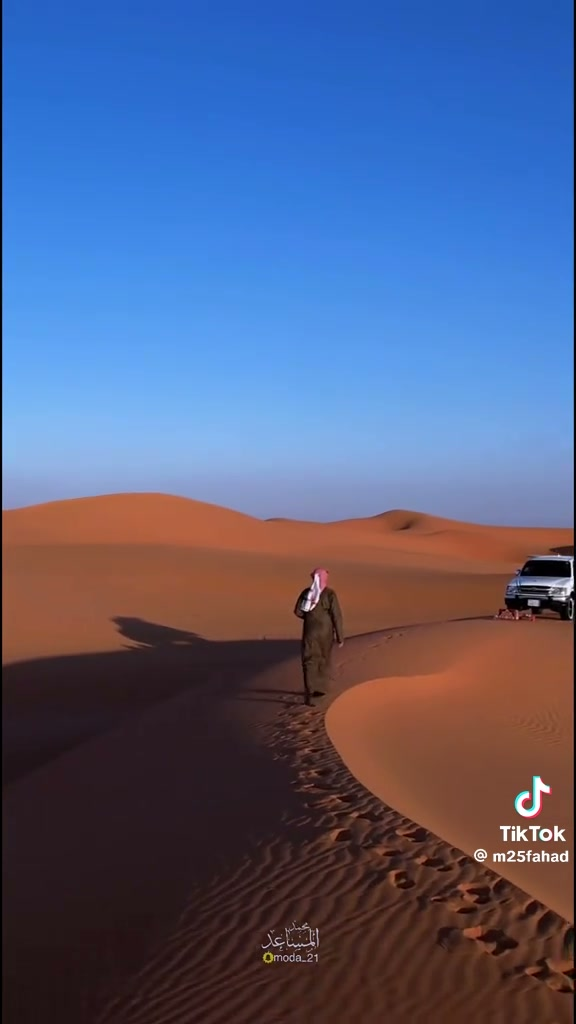human_footprint: (278, 715, 572, 992), (430, 876, 573, 993), (294, 568, 343, 705), (507, 899, 574, 993), (324, 802, 376, 855), (431, 879, 507, 914), (436, 924, 517, 956), (512, 957, 574, 993), (463, 925, 517, 956), (518, 898, 558, 938), (306, 787, 346, 815), (369, 866, 415, 890), (428, 896, 478, 914), (456, 883, 496, 905), (436, 926, 463, 952), (415, 854, 452, 872), (367, 631, 403, 649), (396, 824, 428, 843), (388, 869, 416, 890), (536, 908, 557, 936), (298, 766, 330, 784), (369, 843, 402, 860), (333, 791, 355, 812), (327, 827, 354, 843), (522, 899, 543, 917), (356, 809, 381, 823), (562, 926, 572, 960)
